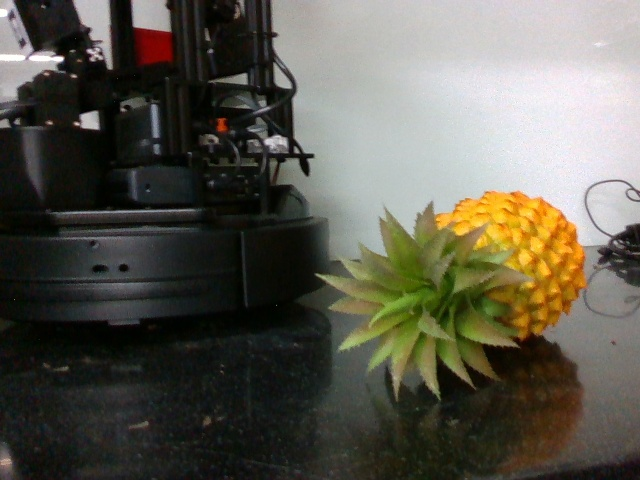pineapple: (330, 188, 593, 381)
